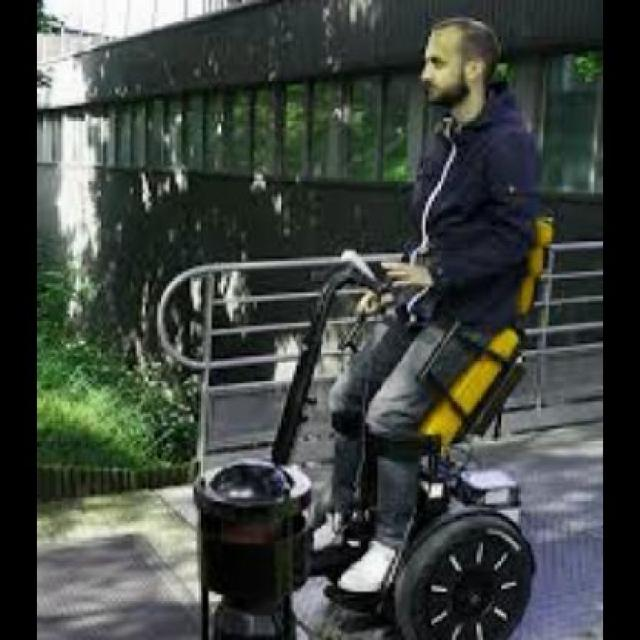wheelchairs: (267, 336, 541, 640)
